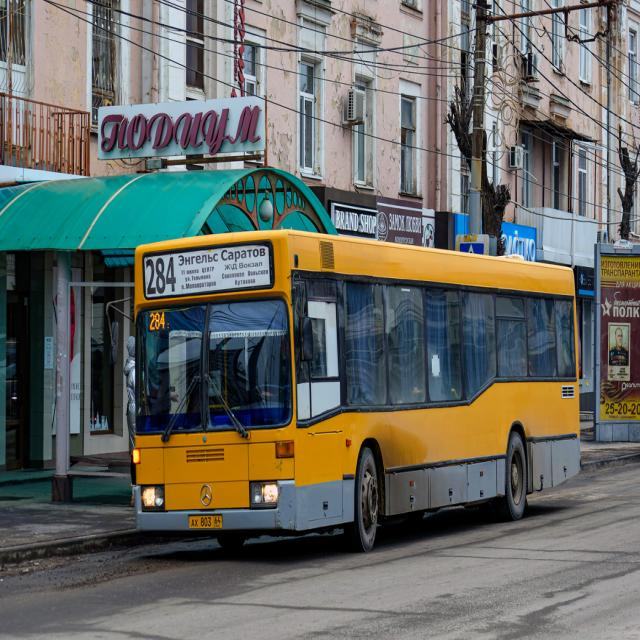number-of-bus: (146, 255, 178, 302), (150, 312, 169, 332)
